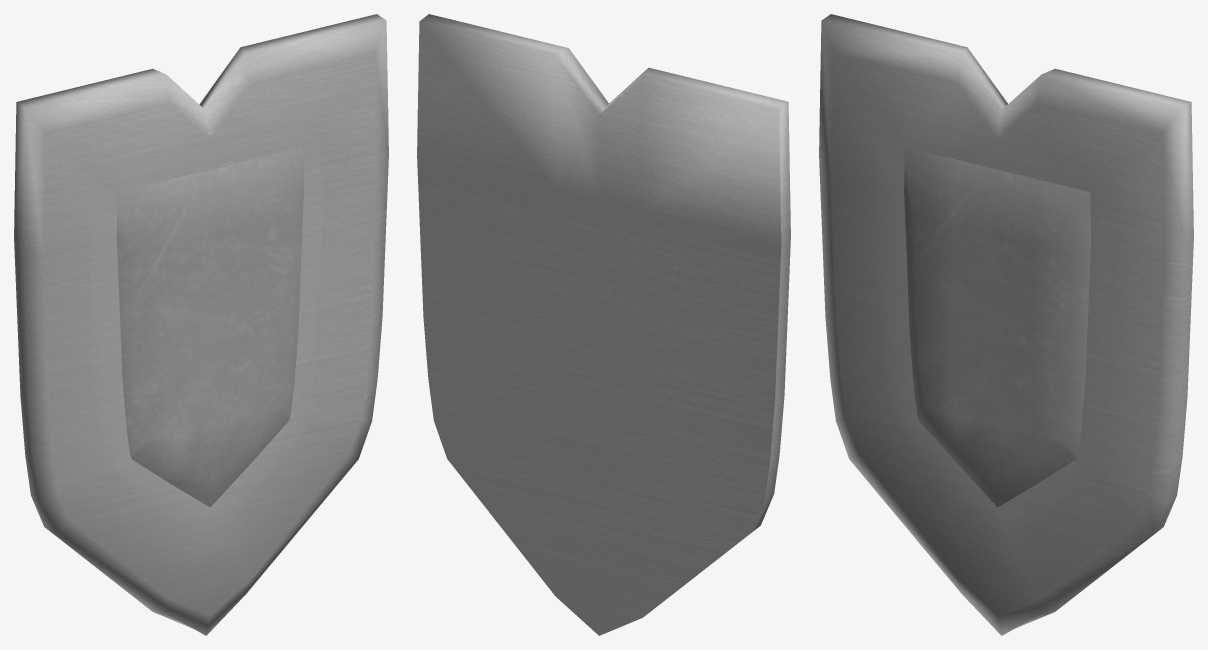
The model's file is wallsheild.FBX.
3 views of the same model, side by side, from view 1: azimuth 30°, elevation 25°; view 2: azimuth 150°, elevation 25°; view 3: azimuth 330°, elevation 25° (orthographic).
Visible parts, largest first — view 1: wallsheild_2_DONE; view 2: wallsheild_2_DONE; view 3: wallsheild_2_DONE.
Part boxes in pixels (x1,y1,x2,y2): wallsheild_2_DONE: (14,14,388,635); wallsheild_2_DONE: (417,14,790,635); wallsheild_2_DONE: (819,14,1193,635).
Size of the model in its own units: 0.3968 by 0.5943 by 0.0326.
